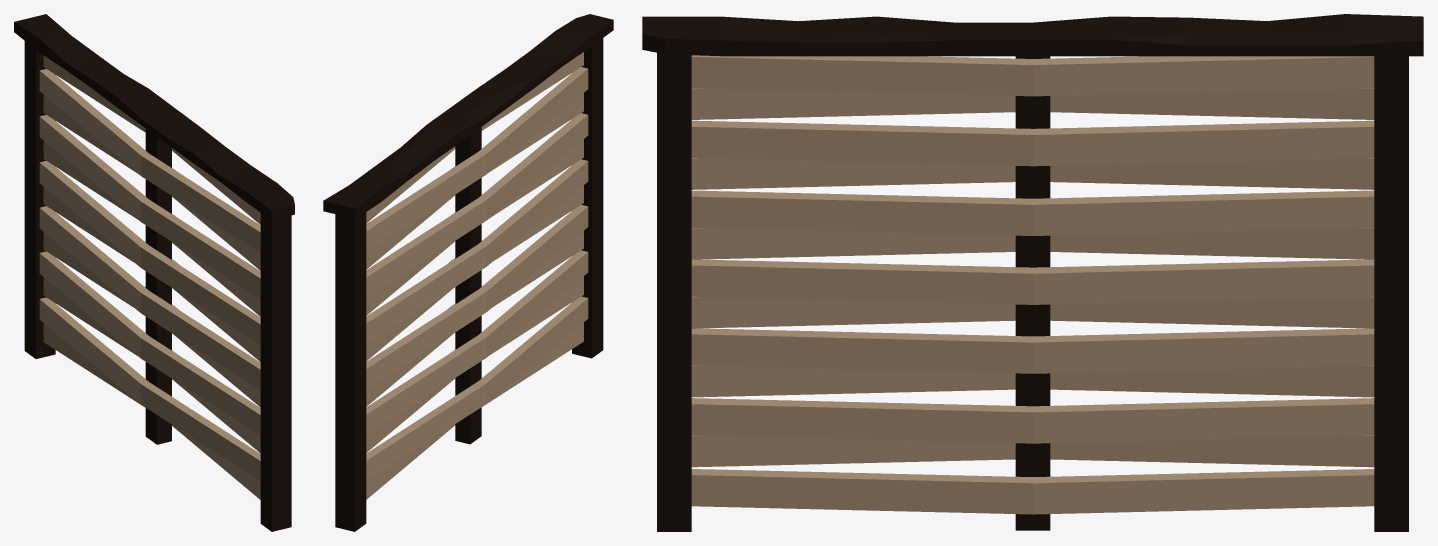
File: Fence_New_2_Black.fbx
The picture shows the model from 3 angles, left to right: view 1: azimuth 30°, elevation 25°; view 2: azimuth 150°, elevation 25°; view 3: azimuth 270°, elevation 25°; orthographic projection. The views are drawn at different scales.
Parts seen in each view (by area): view 1: Cube.052, Cube.043; view 2: Cube.052, Cube.043; view 3: Cube.052, Cube.043.
Boxes of the visible parts, x1,y1,x2,y2 form: Cube.052: (39, 55, 260, 499); Cube.043: (14, 14, 294, 531); Cube.052: (366, 52, 588, 499); Cube.043: (323, 14, 613, 531); Cube.052: (691, 55, 1374, 514); Cube.043: (642, 14, 1423, 531).
Size of the model in its own units: 13.64 by 124 by 176.
